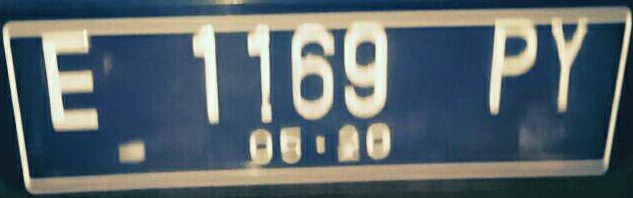plate: (6, 14, 622, 180)
